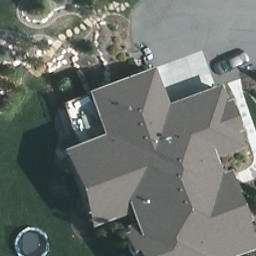car: (212, 50, 252, 76)
